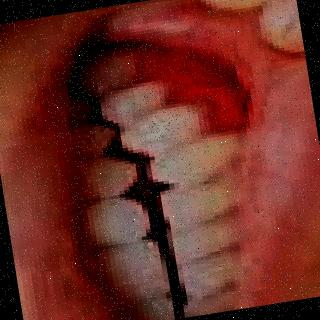Gum Swelling: (125, 47, 244, 132)
